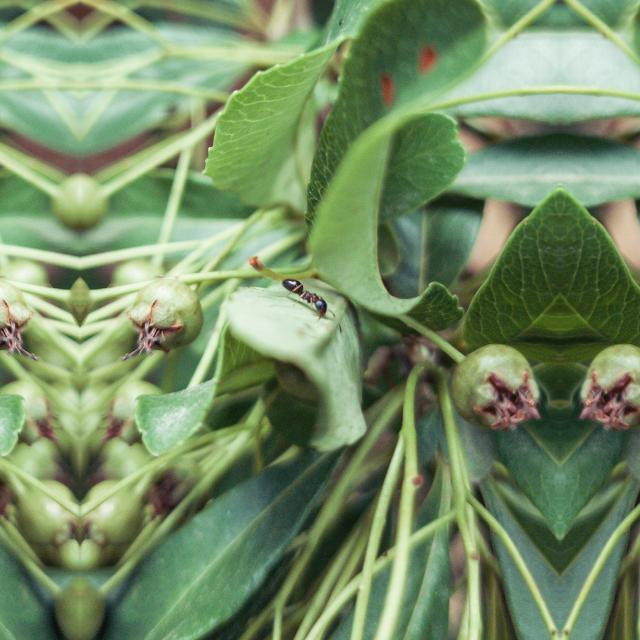Dolichoderus: (277, 264, 333, 320)
